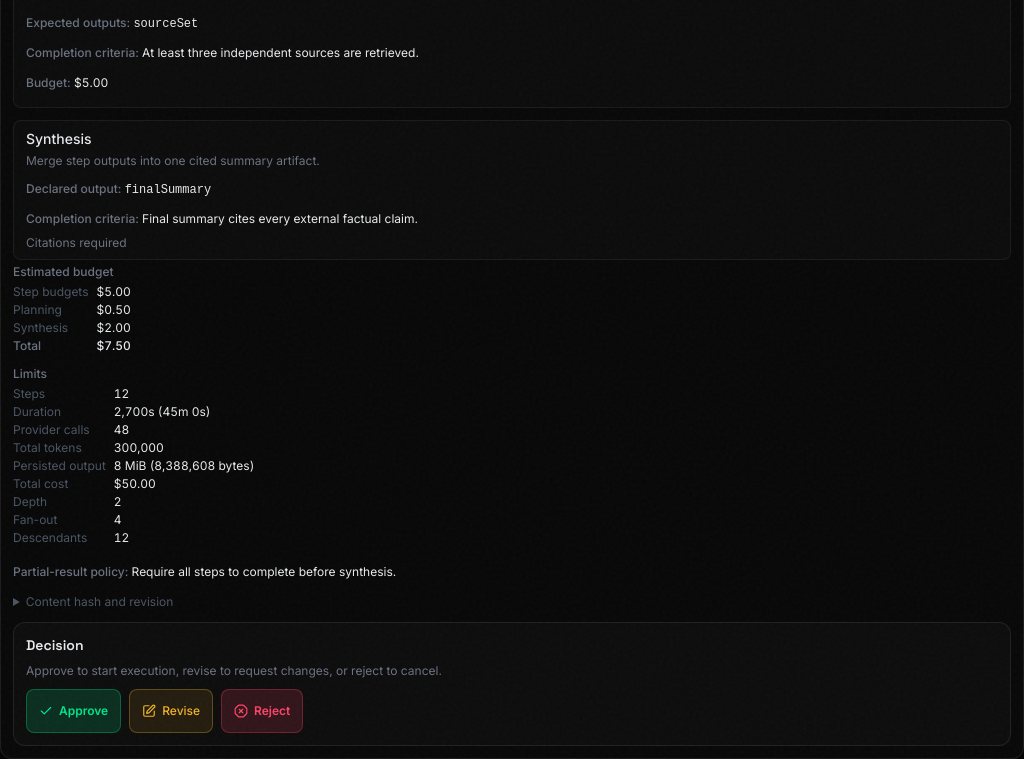
it: Mission plan decision dialogs › requires confirmation before issuing a reject command
(page scrolled)
# Opening the reject dialog does not issue a command.
Click the button with aria-label "reject plan revision 1".
click(262, 711)  # box top-left (221, 689), bottom-right (303, 733)
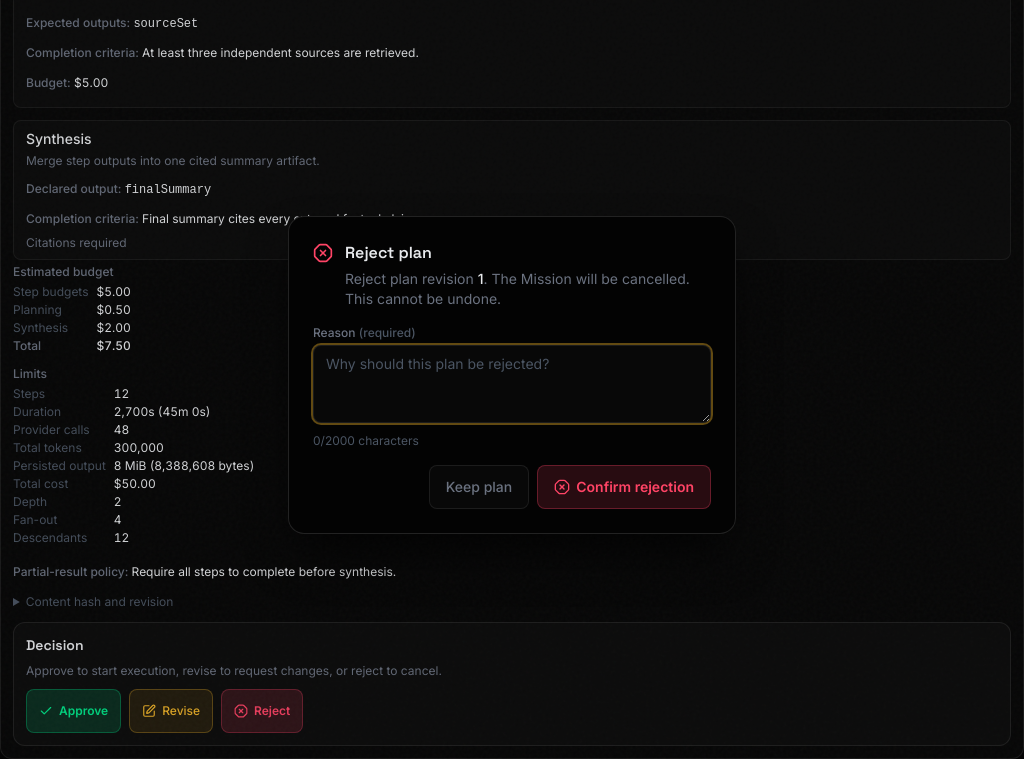
Check: the heading "Reject plan" is shown, box top-left (345, 242), bottom-right (432, 263)
